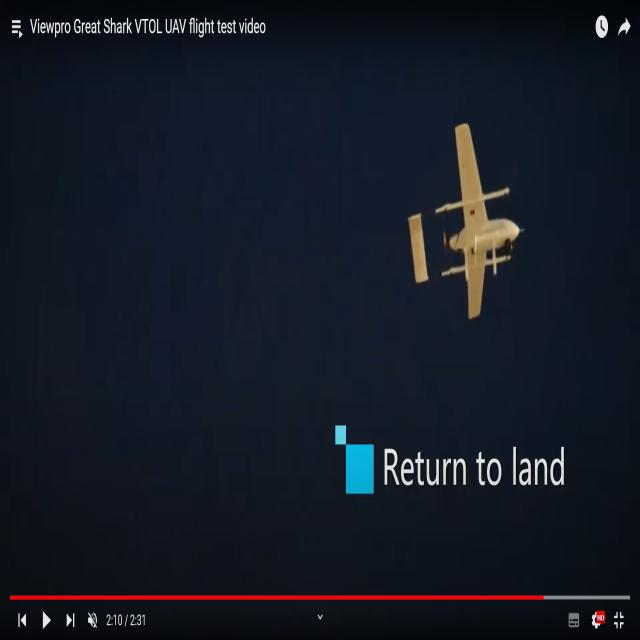iha: (436, 124, 492, 316)
